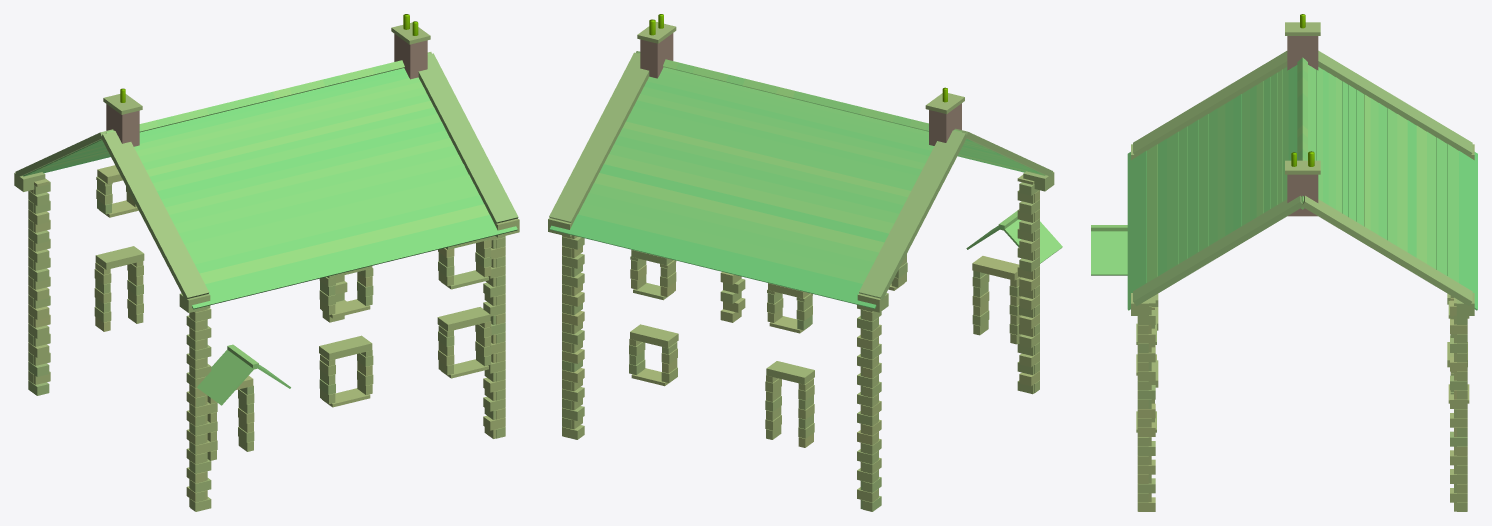
Rendered from SM_Bld_109_Stone.glb.
3 renders of one model, left to right at view 1: azimuth 30°, elevation 25°; view 2: azimuth 150°, elevation 25°; view 3: azimuth 270°, elevation 25°, orthographic.
Parts seen in each view (by area): view 1: SM_Bld_109_Stone; view 2: SM_Bld_109_Stone; view 3: SM_Bld_109_Stone.
Part boxes in pixels (x1,y1,x2,y2): SM_Bld_109_Stone: [14, 14, 519, 511]; SM_Bld_109_Stone: [548, 14, 1062, 511]; SM_Bld_109_Stone: [1091, 14, 1477, 511].
Bounding box in the file's own units: 10.94 × 11.35 × 11.24.
